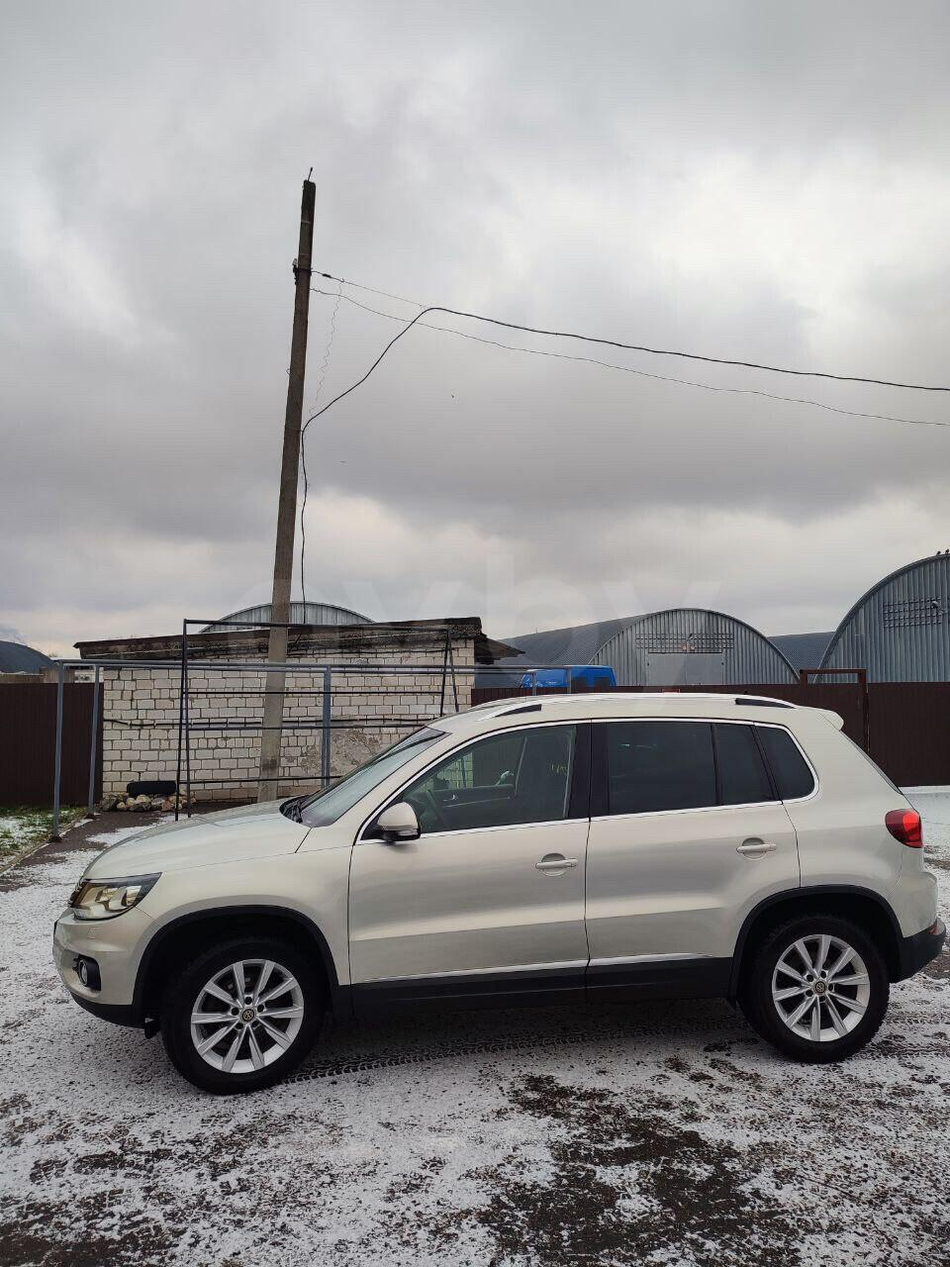Tiguan_2011-2018: (58, 683, 942, 1089)
